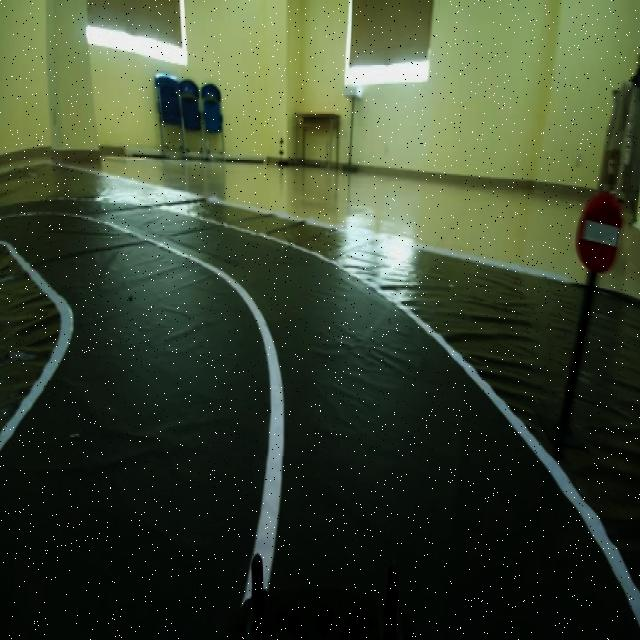no_entry: (569, 180, 623, 280)
